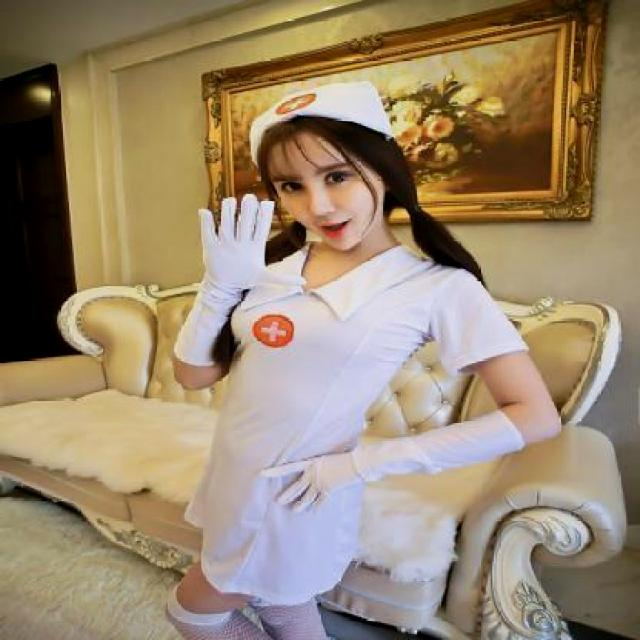face_nomask: (272, 140, 392, 260)
hand_glove: (197, 194, 305, 292), (262, 454, 363, 511)
head_nohelmet: (230, 91, 404, 152)
person: (160, 78, 472, 640)
